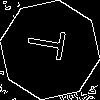T: (25, 25, 76, 63)
